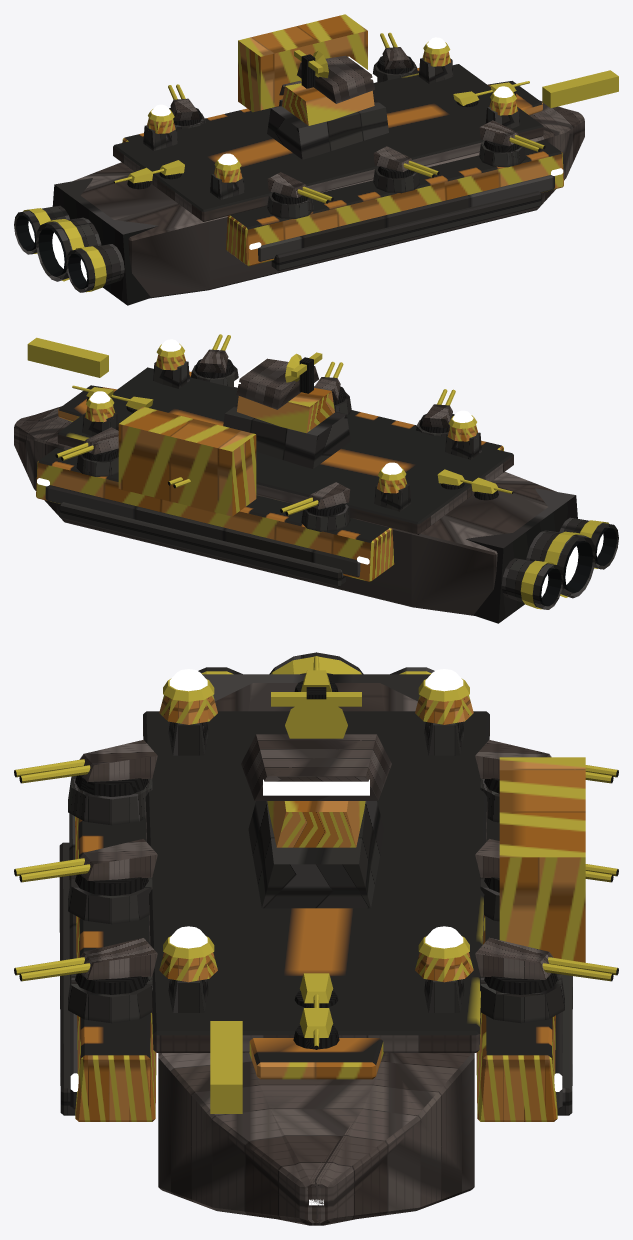
File: cruiser.glb
3 renders of one model, top to bottom at view 1: azimuth 30°, elevation 25°; view 2: azimuth 150°, elevation 25°; view 3: azimuth 270°, elevation 25°, orthographic. The views are drawn at different scales.
Parts seen in each view (by area): view 1: hull_body, engine_block, weapon_turrets, sensor_tower, shield_pylons; view 2: hull_body, engine_block, sensor_tower, weapon_turrets, shield_pylons; view 3: hull_body, weapon_turrets, sensor_tower, shield_pylons, engine_block.
Part boxes in pixels (x1,y1,x2,y2): hull_body: (73,14,618,298); engine_block: (14,178,157,305); weapon_turrets: (113,32,545,218); sensor_tower: (267,50,388,159); shield_pylons: (143,37,520,199); hull_body: (14,337,556,615); engine_block: (466,488,618,623); sensor_tower: (223,352,350,468); weapon_turrets: (55,334,513,531); shield_pylons: (82,339,481,511); hull_body: (59,683,585,1225); weapon_turrets: (14,656,618,1049); sensor_tower: (241,687,391,908); shield_pylons: (159,669,473,1012); engine_block: (198,652,434,701).
Size of the model in its own units: 42 by 12.98 by 21.31.
Materials: 1 (1 with a texture image).
